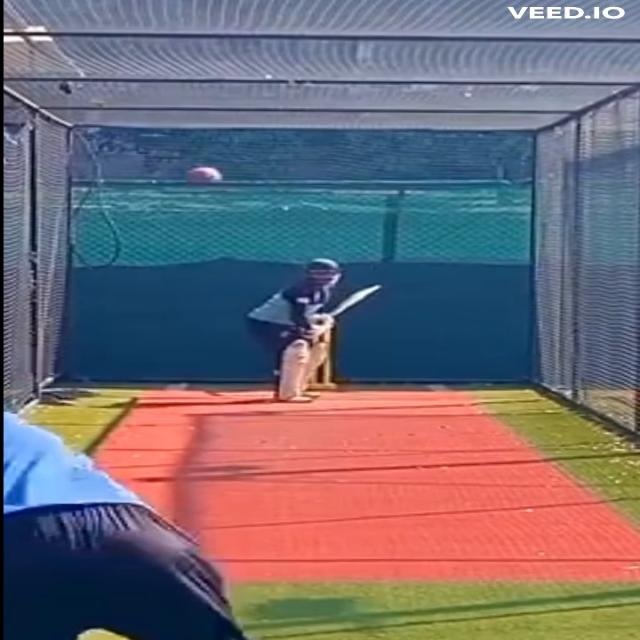ball: (180, 164, 227, 190)
